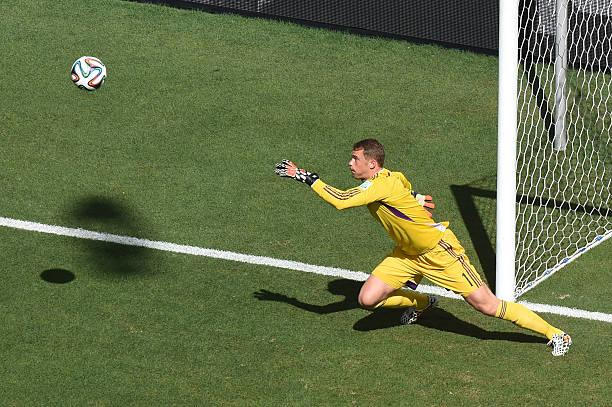Goalkeeper: (275, 139, 573, 357)
ball: (71, 56, 106, 90)
